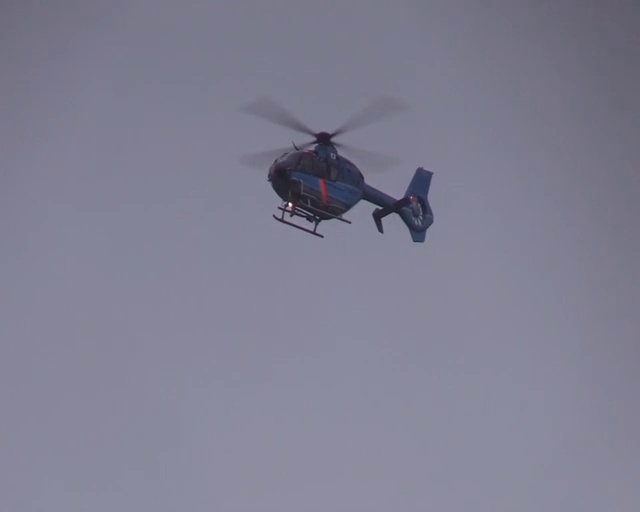HELICOPTER: (237, 91, 435, 241)
